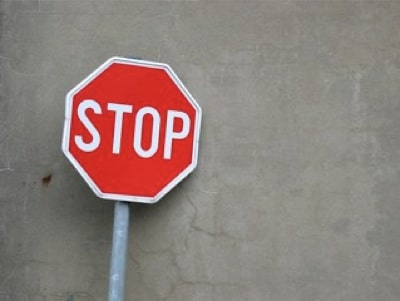StopSign: (60, 54, 204, 206)
